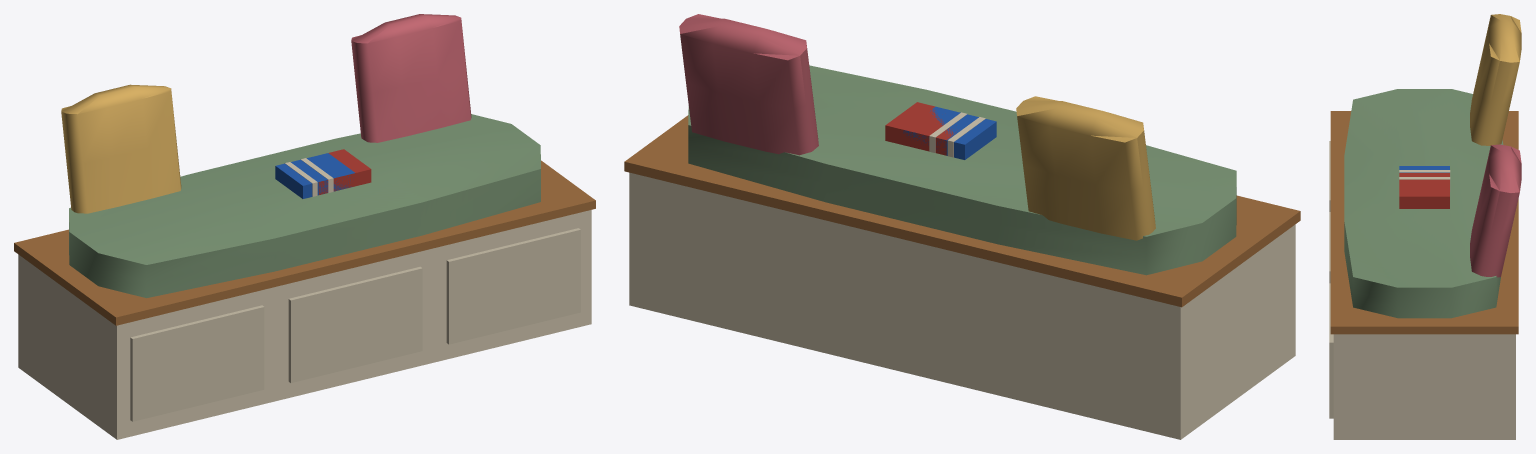
Rendered from window_seat.glb.
The picture shows the model from 3 angles, left to right: view 1: azimuth 30°, elevation 25°; view 2: azimuth 150°, elevation 25°; view 3: azimuth 270°, elevation 25°; orthographic projection. The views are drawn at different scales.
Visible parts, largest first — view 1: furniture-window_seat; view 2: furniture-window_seat; view 3: furniture-window_seat.
Part boxes in pixels (<box>): furniture-window_seat: <box>14,14,595,439</box>; furniture-window_seat: <box>624,14,1300,439</box>; furniture-window_seat: <box>1329,14,1521,439</box>.
Bounding box in the file's own units: 1.82 × 0.9401 × 0.6855.
